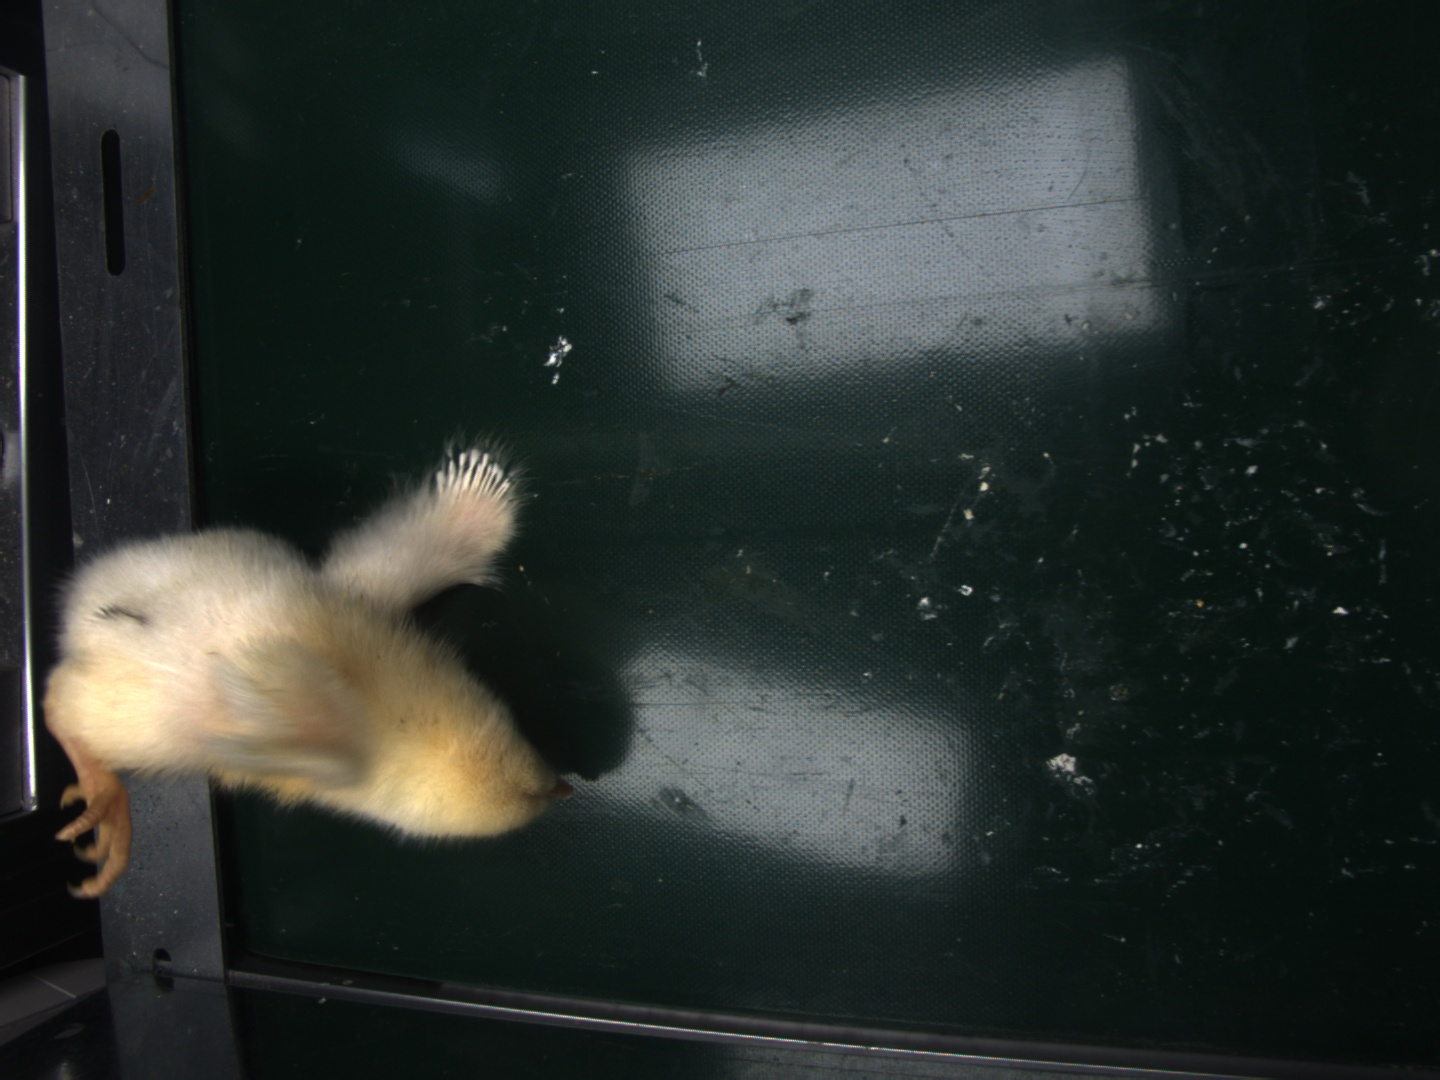male: (437, 450, 515, 507)
